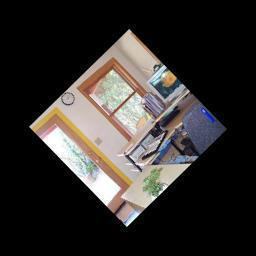Puerta: (33, 106, 136, 210)
